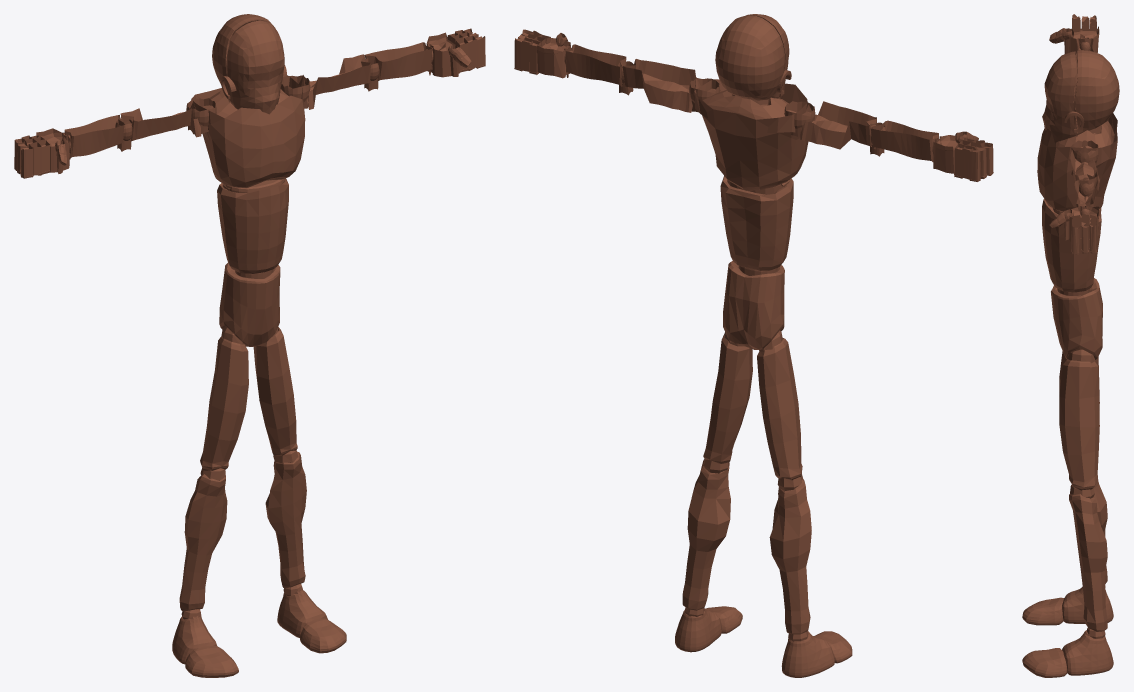
3 renders of one model, left to right at view 1: azimuth 30°, elevation 25°; view 2: azimuth 150°, elevation 25°; view 3: azimuth 270°, elevation 25°, orthographic. The views are drawn at different scales.
Parts seen in each view (by area): view 1: base_mannequin.glb, base_mannequin.glb_2; view 2: base_mannequin.glb, base_mannequin.glb_2; view 3: base_mannequin.glb, base_mannequin.glb_2.
Part boxes in pixels (x1,y1,x2,y2): base_mannequin.glb: (14,14,485,677); base_mannequin.glb_2: (62,46,433,619); base_mannequin.glb: (514,14,993,677); base_mannequin.glb_2: (564,48,941,641); base_mannequin.glb: (1022,14,1119,677); base_mannequin.glb_2: (1053,42,1105,638).
Size of the model in its own units: 1.64 by 2.12 by 0.3162.
Materials: 3 (3 with a texture image).
